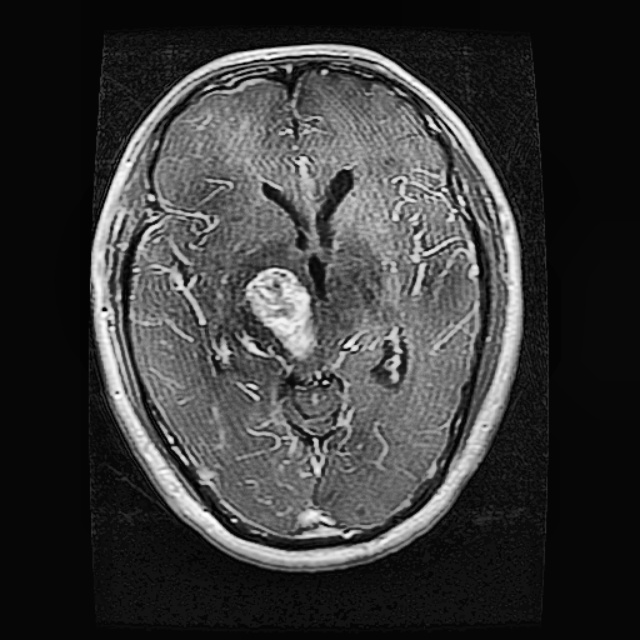Pituitary: (235, 265, 320, 365)
